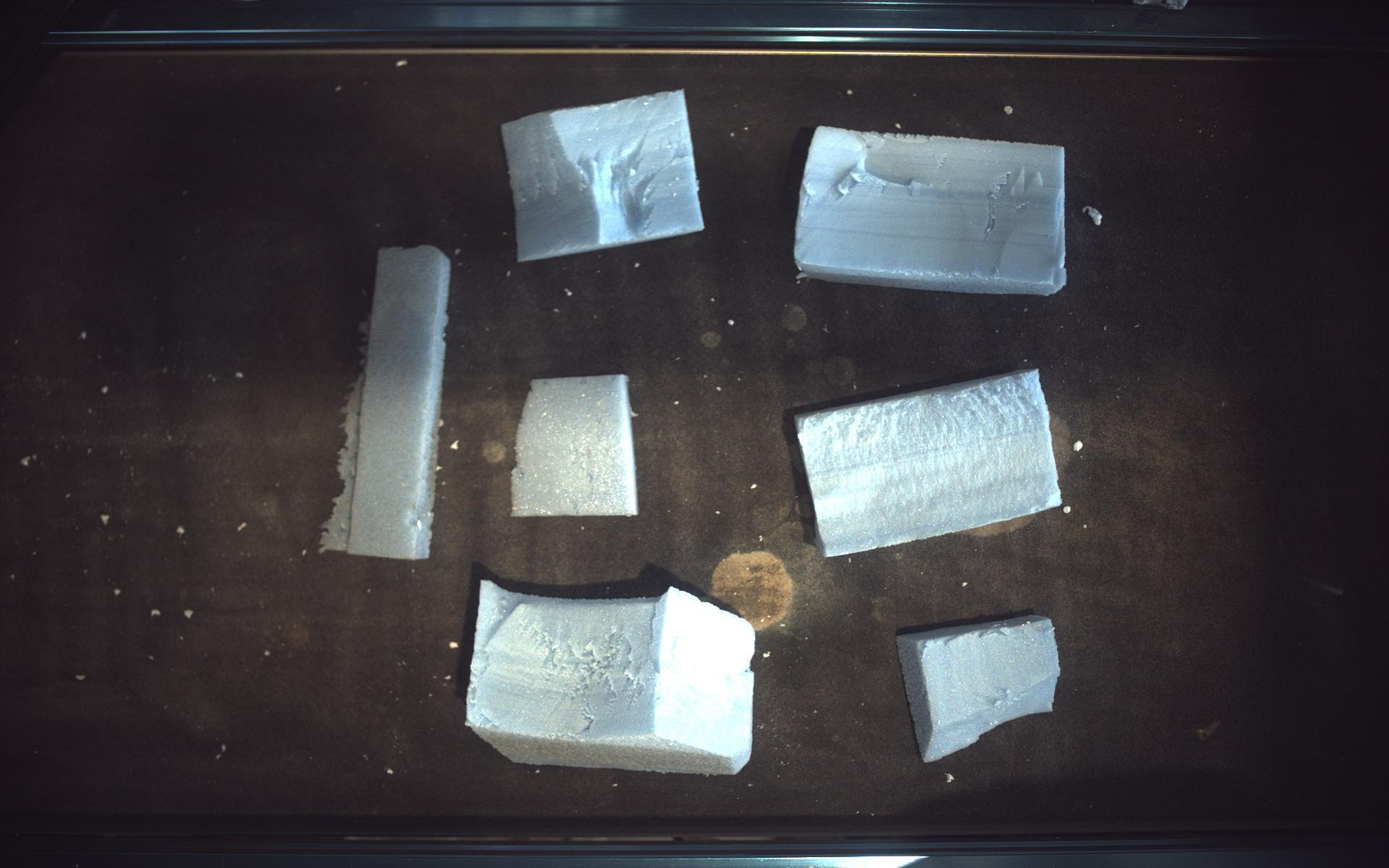foam: (467, 579, 756, 776), (797, 371, 1063, 557), (796, 125, 1069, 294), (320, 245, 451, 560), (502, 89, 704, 261), (899, 616, 1063, 764), (512, 375, 639, 516)
